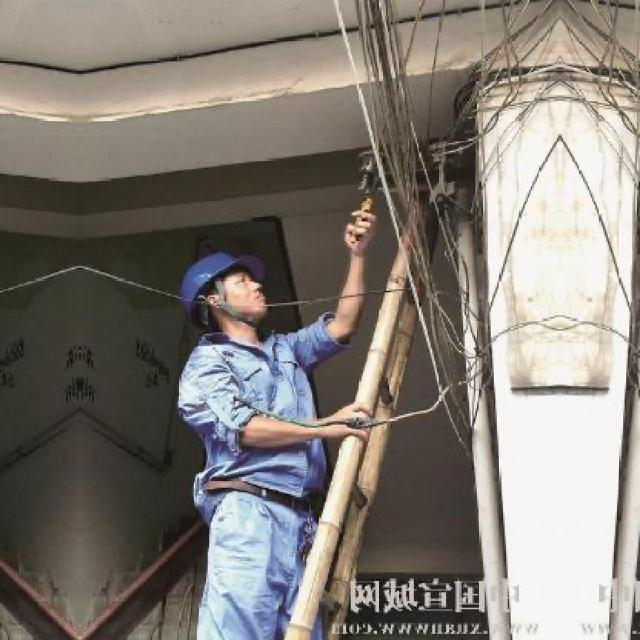helmet: (172, 247, 280, 336)
